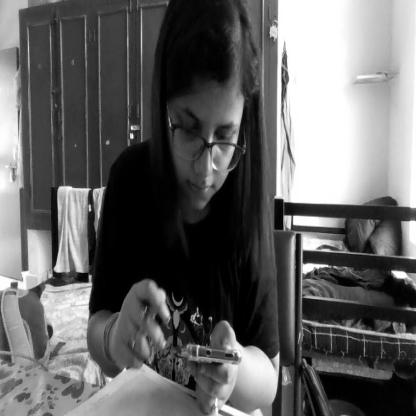Normal: (159, 0, 250, 229)
